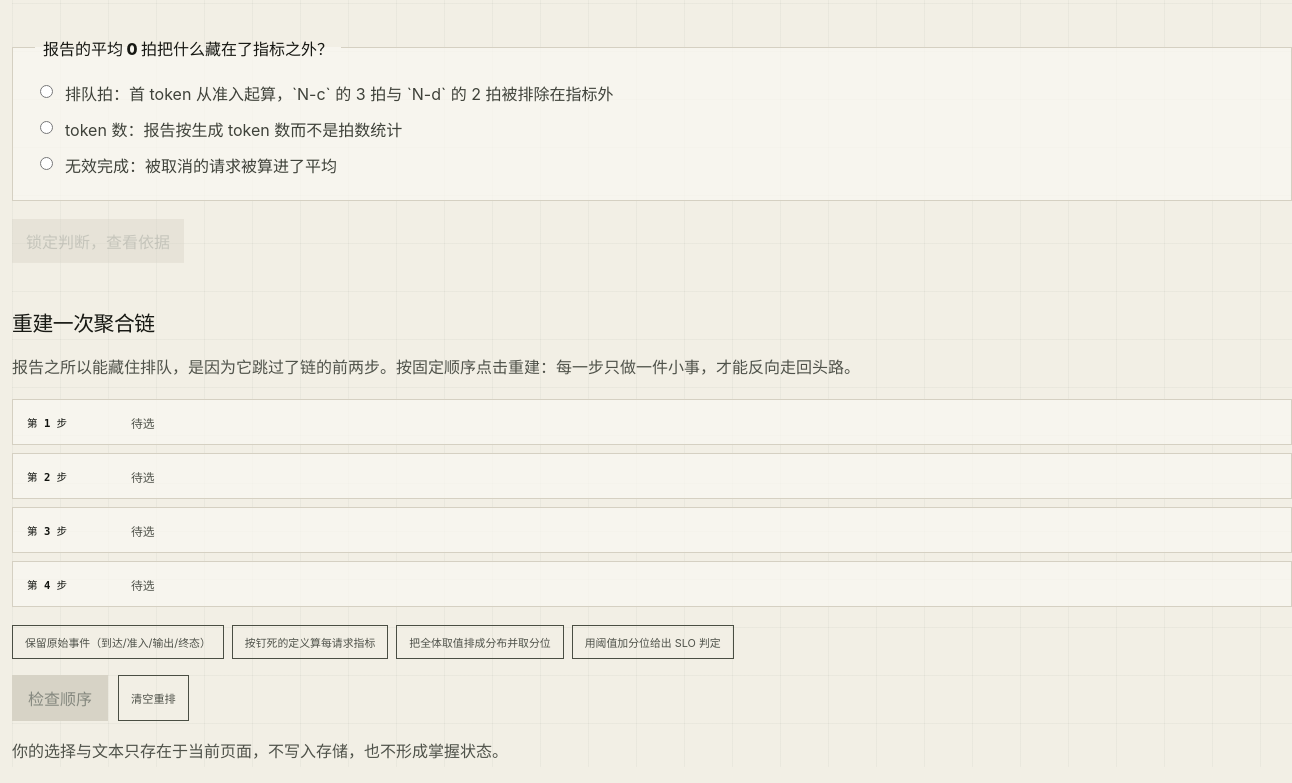
metrics report practice component › grades a rebuilt chain order and marks every result simulated
(page scrolled)
Click the button "按钉死的定义算每请求指标" at (310, 642), box [232,625,388,659]
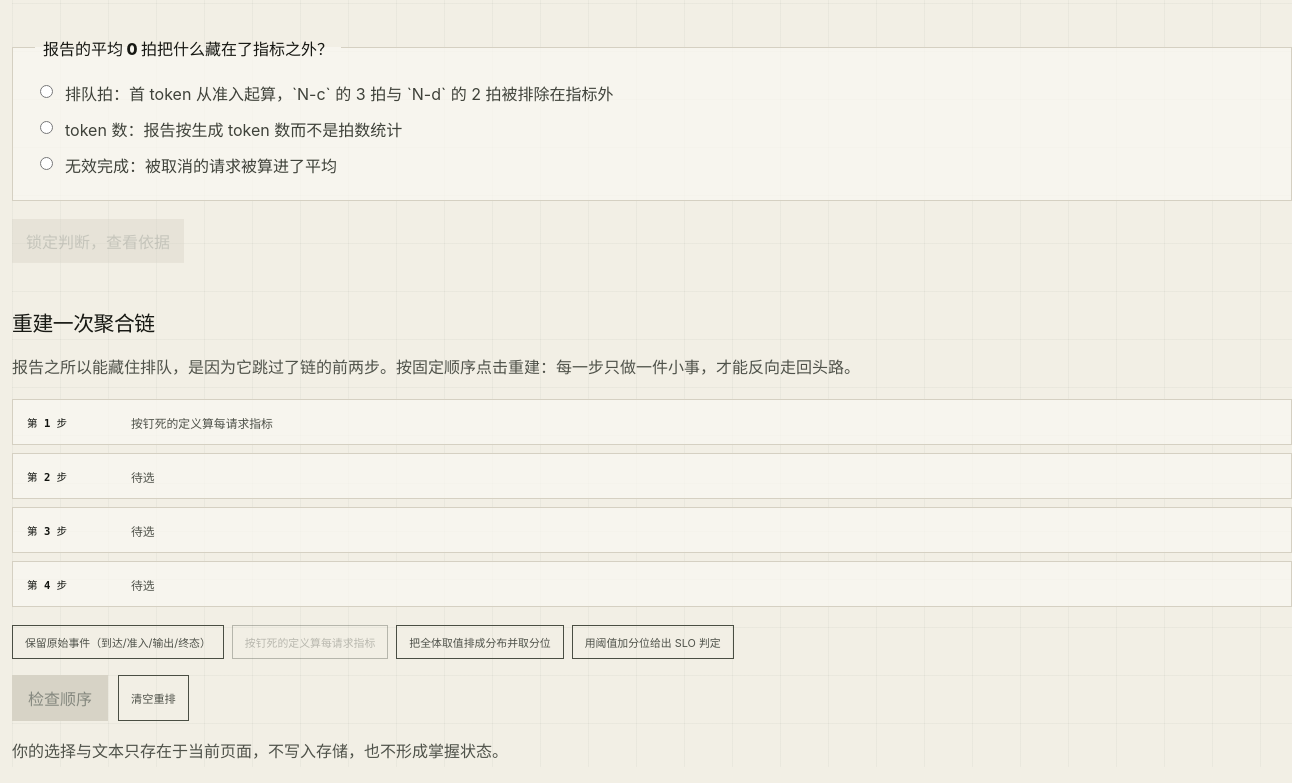
Click the button "保留原始事件（到达/准入/输出/终态）" at (118, 642), box [12,625,224,659]
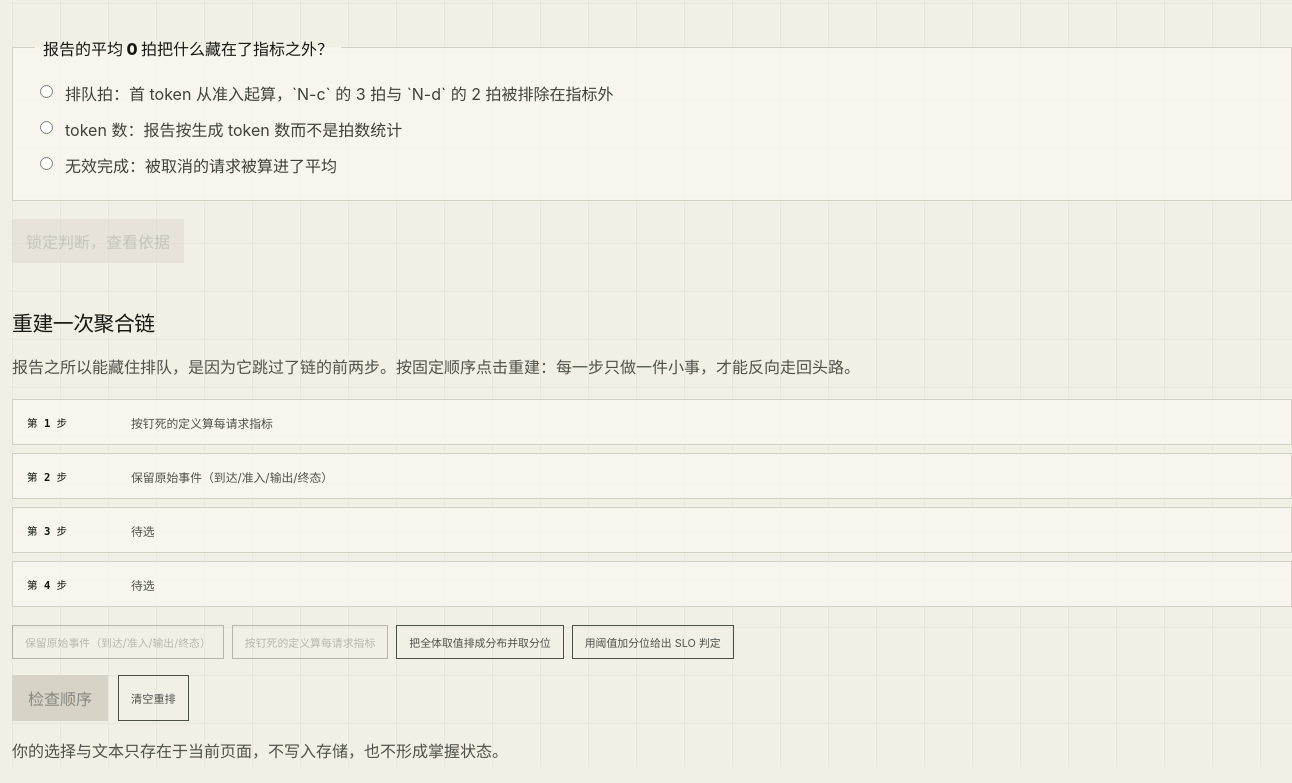
Click the button "把全体取值排成分布并取分位" at (480, 642), box [396,625,564,659]
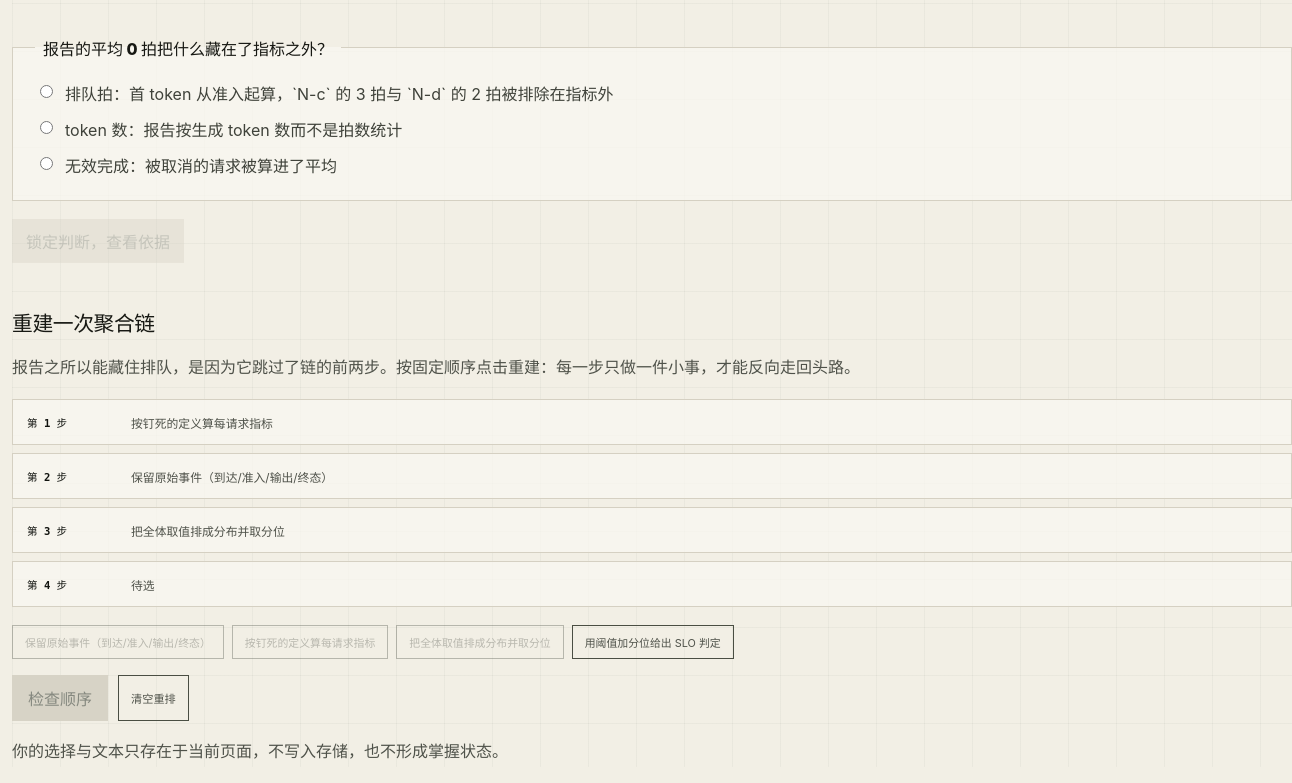
Click the button "用阈值加分位给出 SLO 判定" at (653, 642), box [572,625,734,659]
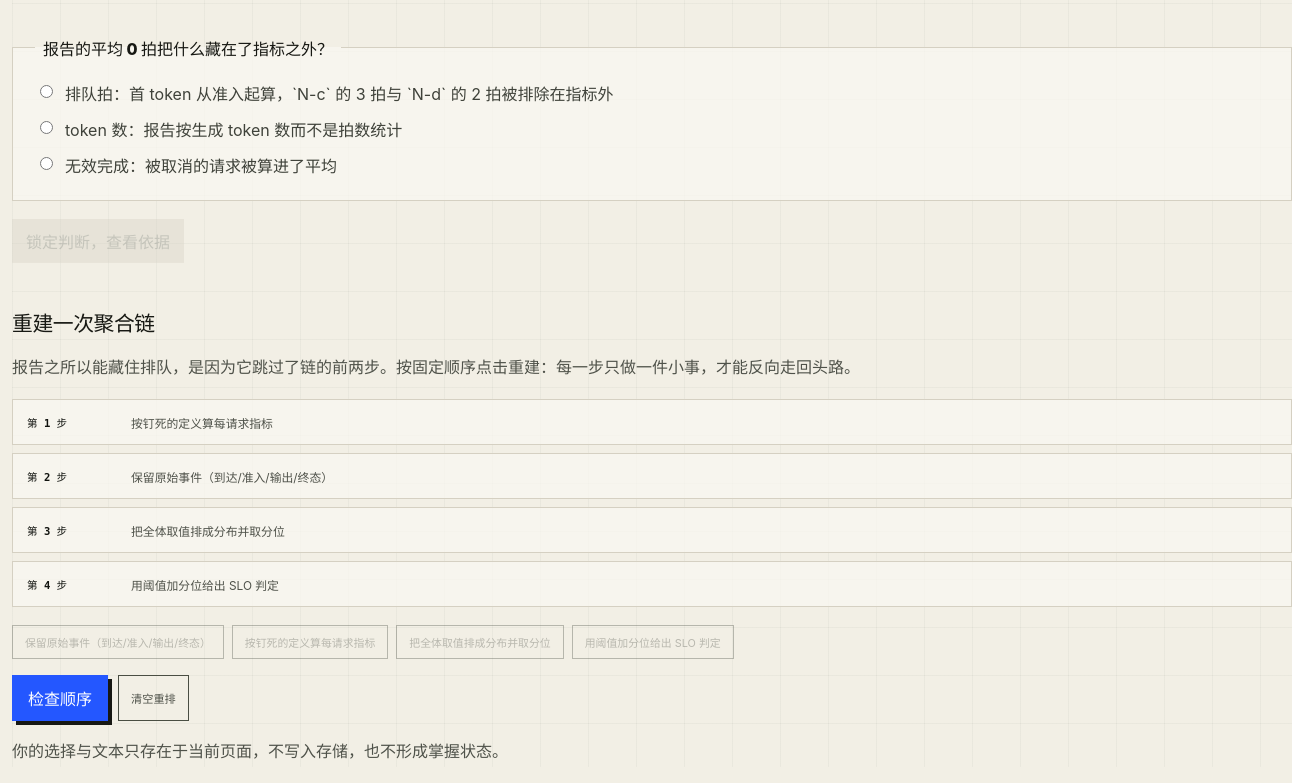
Click the button "检查顺序" at (60, 698), box [12,675,108,721]
(page scrolled)
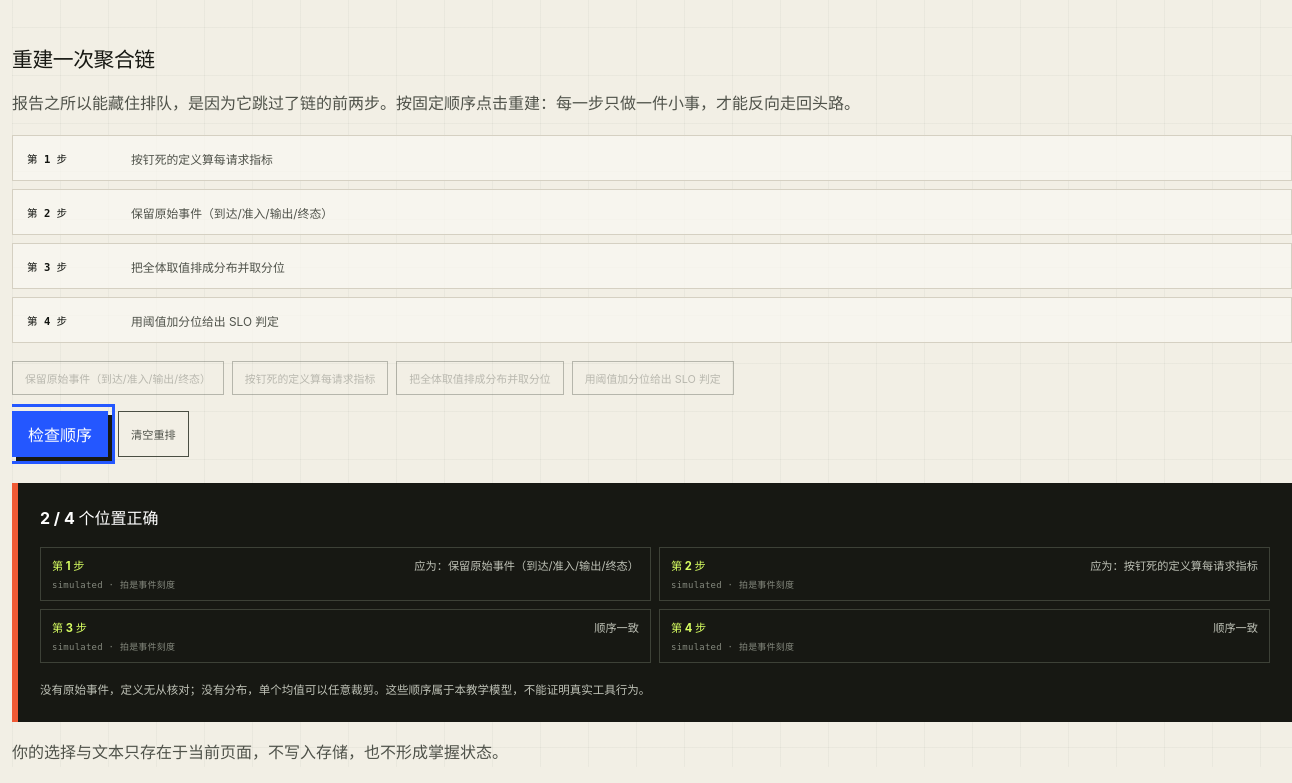
Now the text "2 / 4 个位置正确" is shown, box [40,508,158,528]
Now the text "应为：保留原始事件（到达/准入/输出/终态）" is shown, box [414,559,639,573]
Now the text "没有原始事件，定义无从核对；没有分布，单个均值可以任意裁剪。这些顺序属于本教学模型，不能证明真实工具行为。" is shown, box [40,683,650,697]
